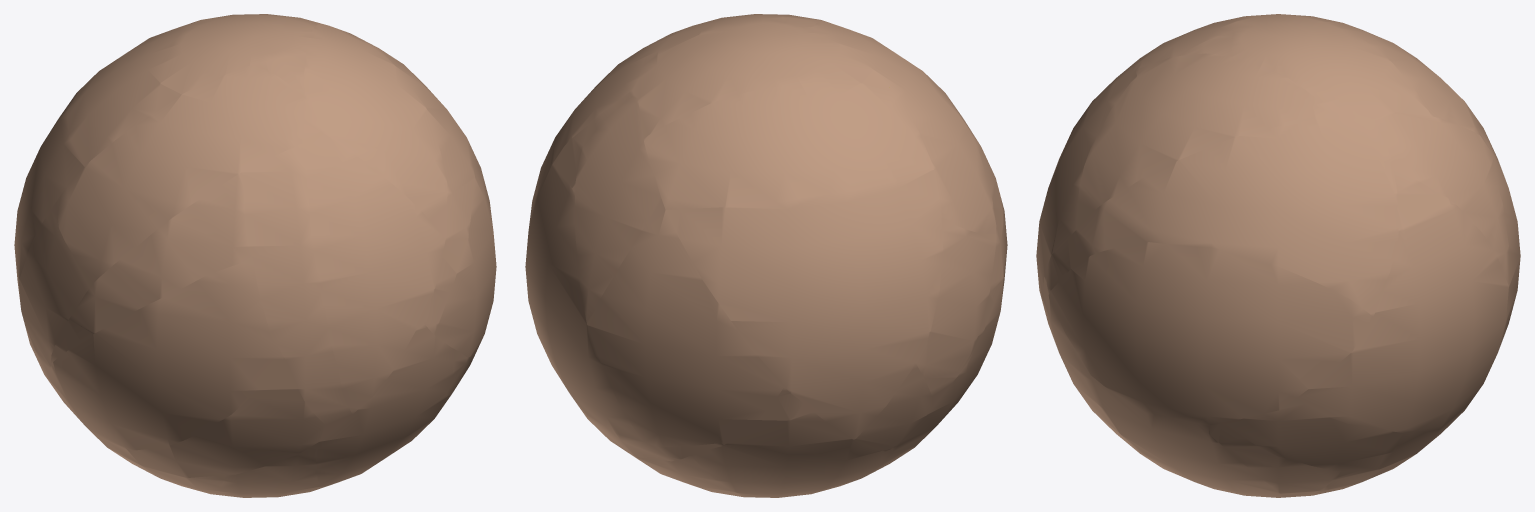
File: Fireball.fbx
3 views of the same model, side by side, from view 1: azimuth 30°, elevation 25°; view 2: azimuth 150°, elevation 25°; view 3: azimuth 270°, elevation 25° (orthographic).
Visible parts, largest first — view 1: shard30, shard47, shard20, shard48, shard16, shard50, shard52, shard54, shard29, shard37, shard24, shard45 (+6 smaller); view 2: shard21, shard37, shard39, shard29, shard31, shard51, shard23, shard47, shard24, shard45, shard41, shard30 (+6 smaller); view 3: shard18, shard45, shard31, shard48, shard29, shard51, shard36, shard22, shard20, shard43, shard37, shard54 (+7 smaller).
Boxes of the visible parts, left/top/right/bottom form: shard30: left=50, top=259, right=284, bottom=450; shard47: left=56, top=64, right=304, bottom=284; shard20: left=303, top=122, right=445, bottom=413; shard48: left=303, top=23, right=447, bottom=238; shard16: left=242, top=144, right=352, bottom=430; shard50: left=55, top=172, right=251, bottom=356; shard52: left=93, top=358, right=331, bottom=477; shard54: left=316, top=324, right=454, bottom=488; shard29: left=156, top=14, right=319, bottom=110; shard37: left=67, top=21, right=195, bottom=166; shard24: left=19, top=202, right=91, bottom=378; shard45: left=340, top=29, right=474, bottom=333; shard21: left=666, top=170, right=943, bottom=440; shard37: left=643, top=81, right=933, bottom=210; shard39: left=589, top=200, right=783, bottom=447; shard29: left=638, top=19, right=892, bottom=138; shard31: left=525, top=162, right=643, bottom=441; shard51: left=575, top=92, right=661, bottom=328; shard23: left=692, top=408, right=916, bottom=497; shard47: left=812, top=21, right=996, bottom=236; shard24: left=915, top=220, right=995, bottom=404; shard45: left=531, top=36, right=665, bottom=210; shard41: left=854, top=363, right=934, bottom=451; shard30: left=887, top=198, right=1007, bottom=452; shard18: left=1048, top=242, right=1372, bottom=425; shard45: left=1046, top=113, right=1398, bottom=316; shard31: left=1296, top=203, right=1508, bottom=432; shard48: left=1076, top=53, right=1333, bottom=229; shard29: left=1231, top=14, right=1431, bottom=116; shard51: left=1378, top=112, right=1509, bottom=287; shard36: left=1072, top=344, right=1286, bottom=497; shard22: left=1221, top=399, right=1390, bottom=470; shard20: left=1036, top=64, right=1150, bottom=309; shard43: left=1196, top=423, right=1342, bottom=496; shard37: left=1280, top=14, right=1480, bottom=135; shard54: left=1043, top=276, right=1219, bottom=490.
Size of the model in its own units: 11.47 by 11.47 by 11.47.
